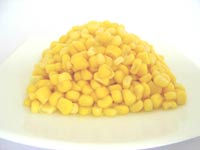corn: (23, 17, 186, 119)
